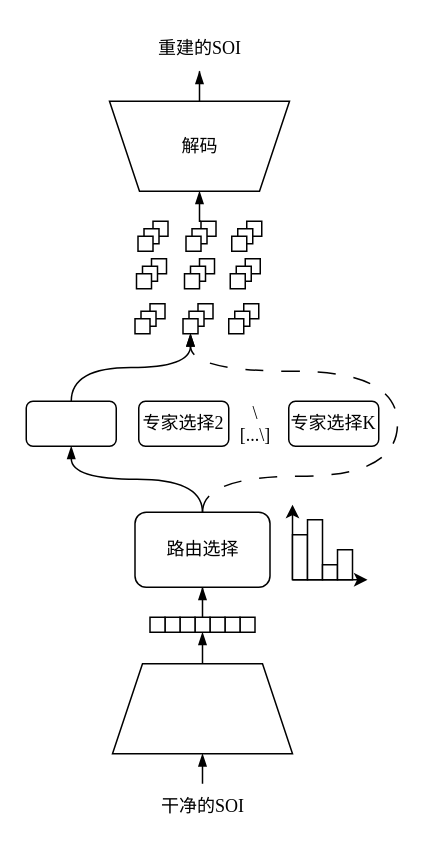
Image size: 425x854. Some labels were removed from this diagram. The shapes that lost their labels are listed below. From the top down, each one's centre as x and y in pixels, then its label:
At (x=70, y=423): "专家选择1".
At (x=201, y=708): "编码 循环特征提取".
